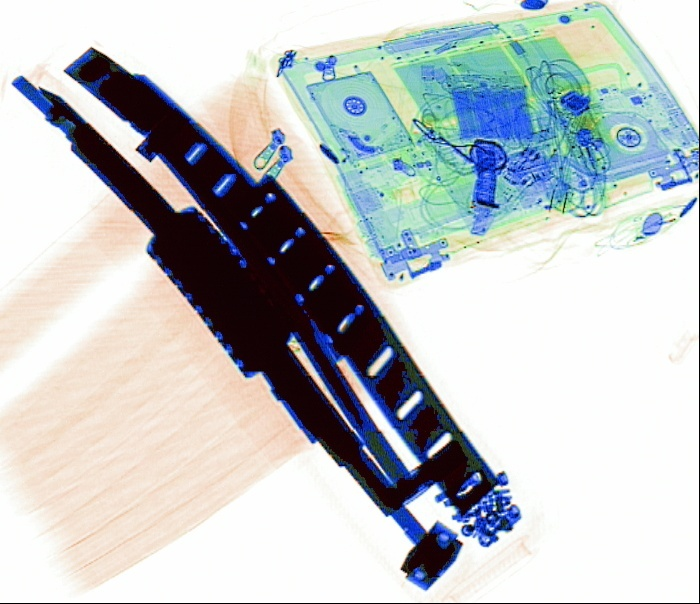powerbank: (448, 78, 536, 141)
